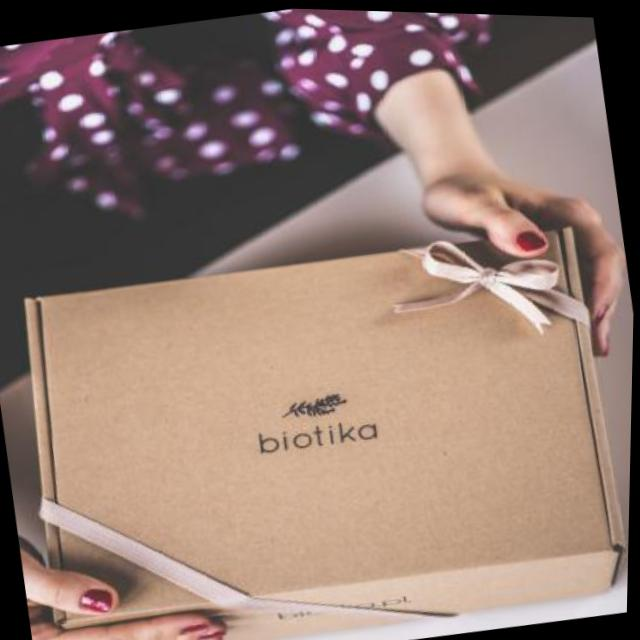box: (0, 192, 637, 640)
